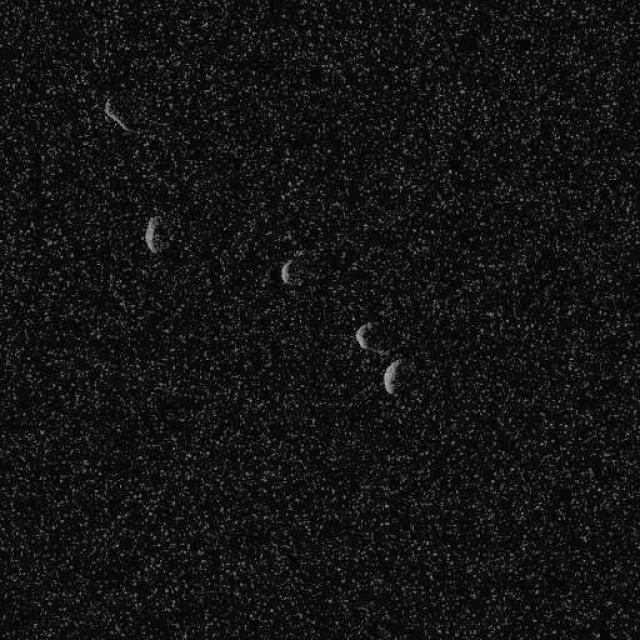D2: (101, 96, 134, 135), (142, 214, 168, 254), (381, 359, 400, 395), (354, 320, 376, 351), (278, 259, 294, 285)
